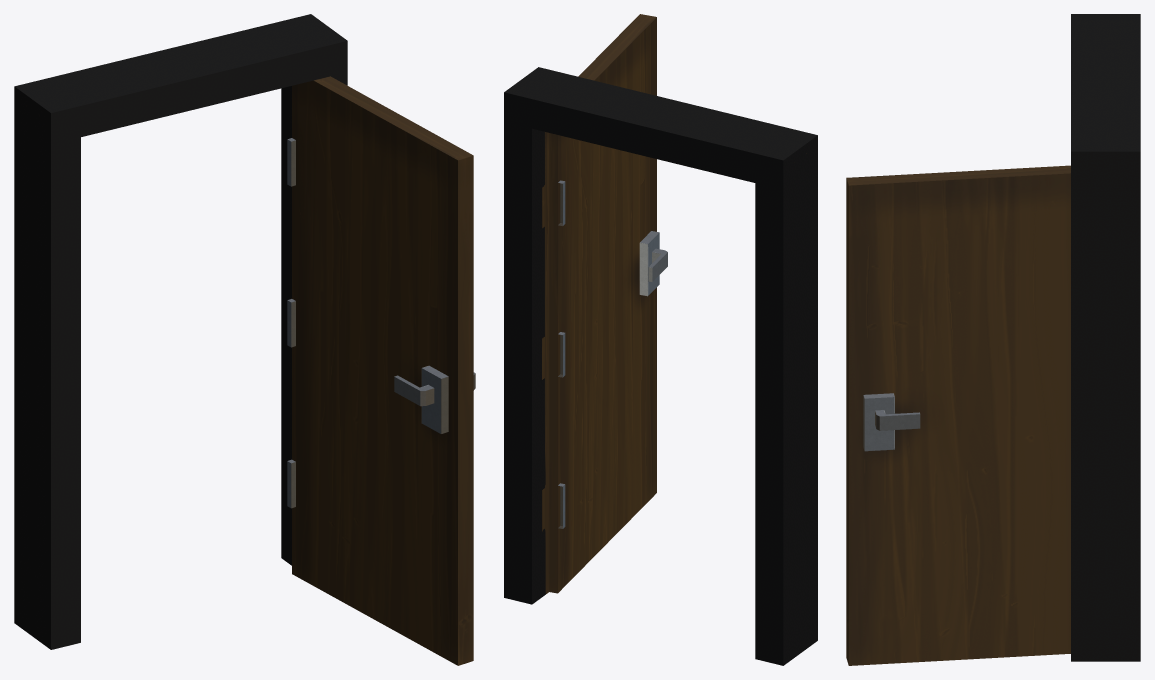
Rendered from DoorOpen_001.fbx.
3 renders of one model, left to right at view 1: azimuth 30°, elevation 25°; view 2: azimuth 150°, elevation 25°; view 3: azimuth 270°, elevation 25°, orthographic. The views are drawn at different scales.
Parts seen in each view (by area): view 1: Door_001, Door_001.001; view 2: Door_001.001, Door_001; view 3: Door_001, Door_001.001.
Part boxes in pixels (<box>): Door_001: <box>287,76,475,665</box>; Door_001.001: <box>14,14,347,649</box>; Door_001.001: <box>504,67,817,665</box>; Door_001: <box>549,14,667,593</box>; Door_001: <box>846,165,1070,665</box>; Door_001.001: <box>1071,14,1140,661</box>.
Bounding box in the file's own units: 148 × 234 × 122.
Materials: 1 (1 with a texture image).
